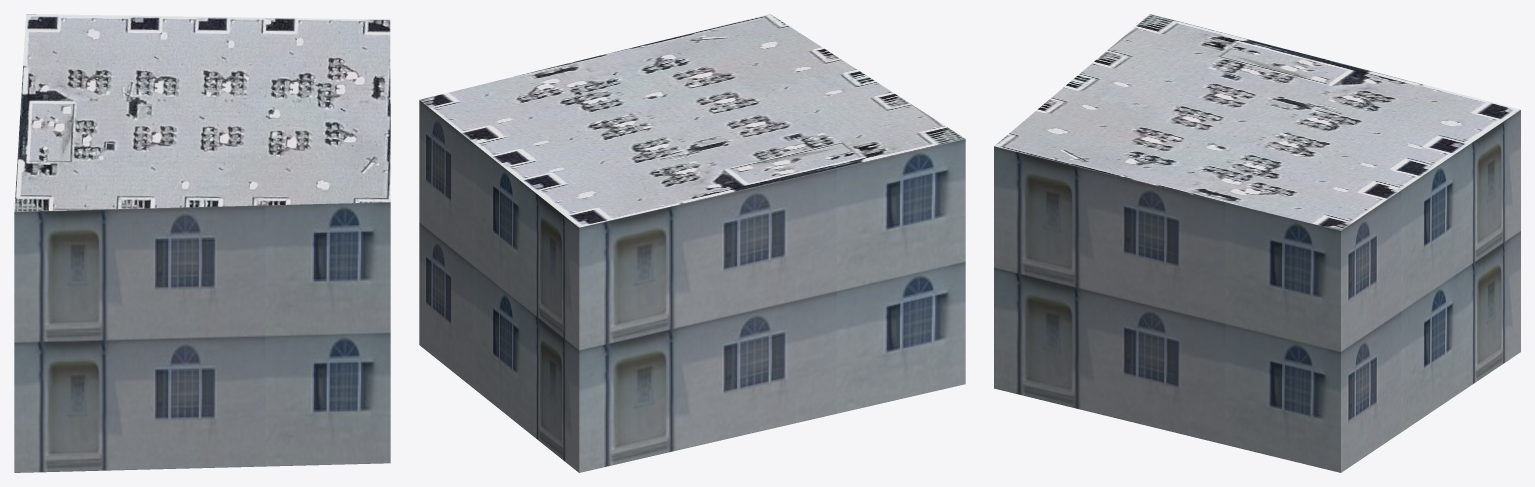
Rendered from ResTex__3204.fbx.
3 views of the same model, side by side, from view 1: azimuth 30°, elevation 25°; view 2: azimuth 150°, elevation 25°; view 3: azimuth 270°, elevation 25° (orthographic). The views are drawn at different scales.
Visible parts, largest first — view 1: CityEngineMaterial_17_m, CityEngineMaterial_2_m; view 2: CityEngineMaterial_17_m, CityEngineMaterial_2_m; view 3: CityEngineMaterial_17_m, CityEngineMaterial_2_m.
Part boxes in pixels (<box>): CityEngineMaterial_17_m: <box>14,202,390,472</box>; CityEngineMaterial_2_m: <box>14,14,390,211</box>; CityEngineMaterial_17_m: <box>419,100,965,472</box>; CityEngineMaterial_2_m: <box>419,14,965,227</box>; CityEngineMaterial_17_m: <box>994,110,1520,472</box>; CityEngineMaterial_2_m: <box>994,14,1520,230</box>.
Size of the model in its own units: 11.51 by 6 by 11.82.
2 materials, 2 textured.
